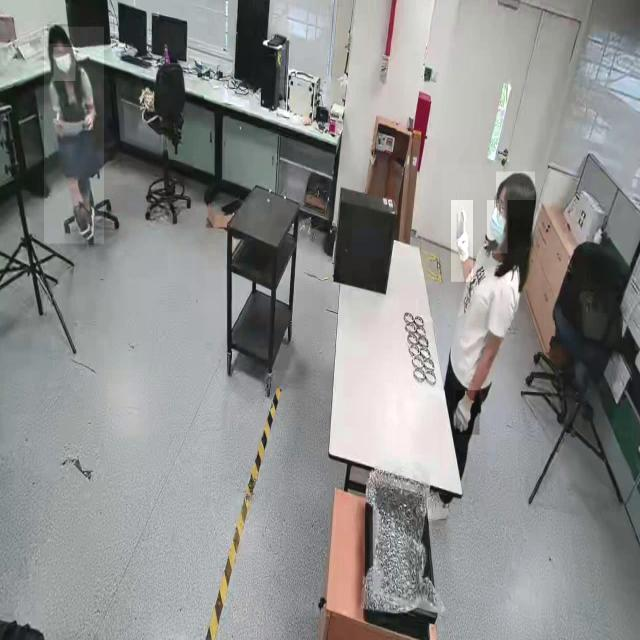face_mask: (487, 200, 507, 253), (54, 47, 76, 82)
hand_glove: (451, 200, 473, 282), (456, 390, 480, 436)
hand_noglove: (84, 109, 94, 131)
head_nohelmet: (496, 171, 536, 201), (47, 24, 69, 44)
person: (442, 165, 542, 468), (44, 27, 104, 245)
shoes: (424, 485, 452, 526), (71, 201, 91, 240)
